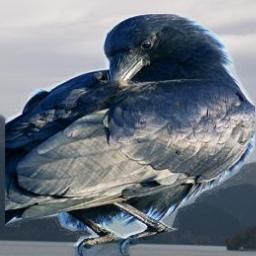Crow: (5, 13, 255, 256), (25, 144, 67, 184)
